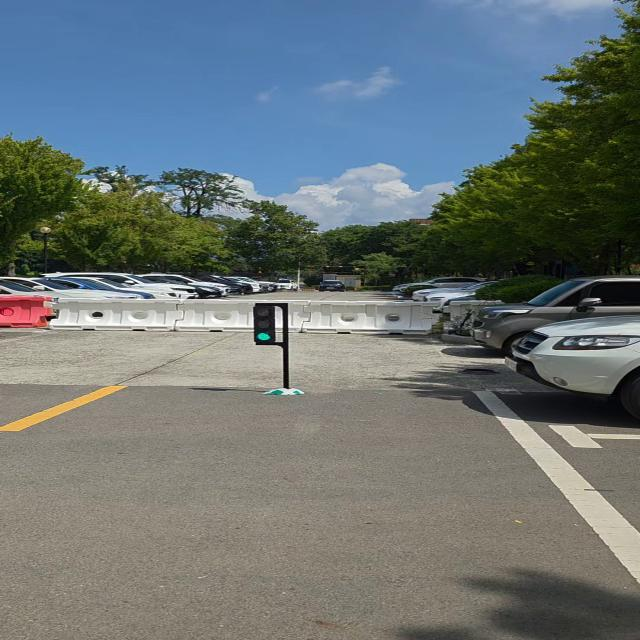green: (249, 302, 283, 346)
